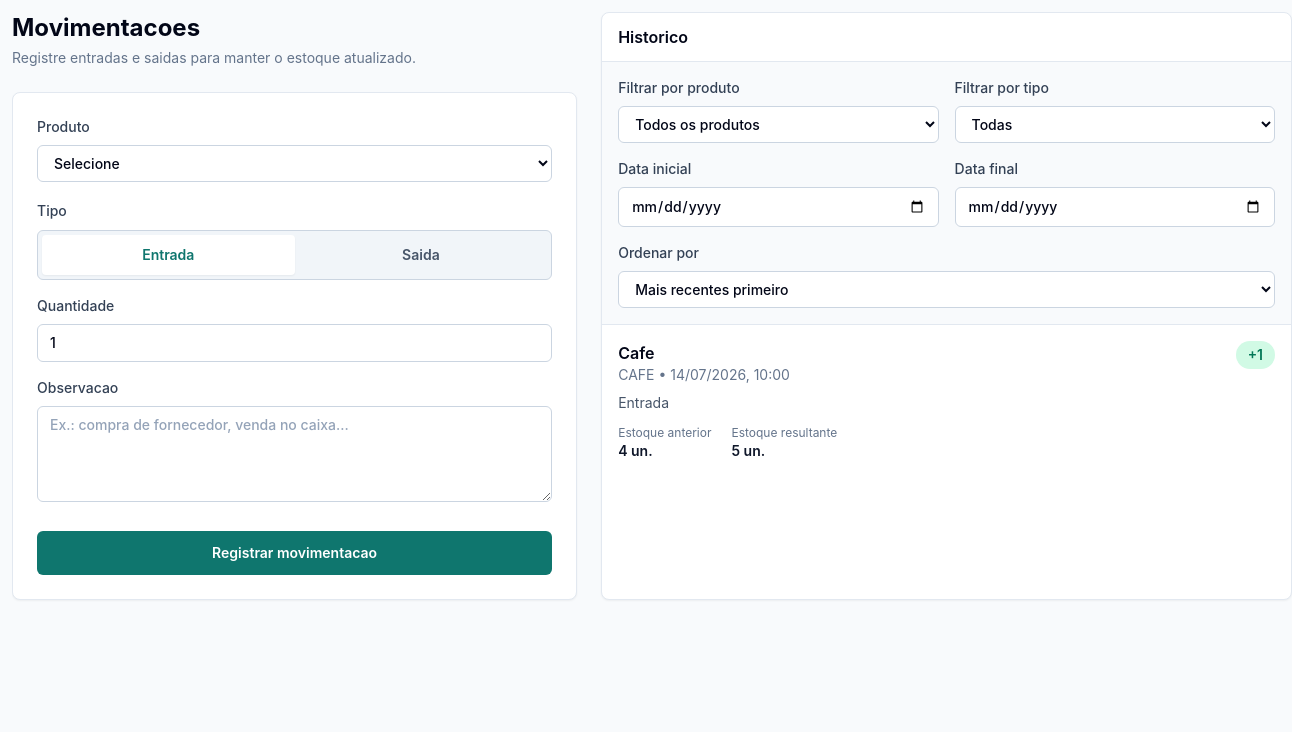
Scenario: controles de consulta das paginas › informa intervalo invalido sem apagar filtros e permite limpa-los
This screenshot has width=1292, height=732.
Type "2026-07-15" into the date field labelled "Data inicial". click: (778, 207)
box: top-left (618, 187), bottom-right (939, 227)
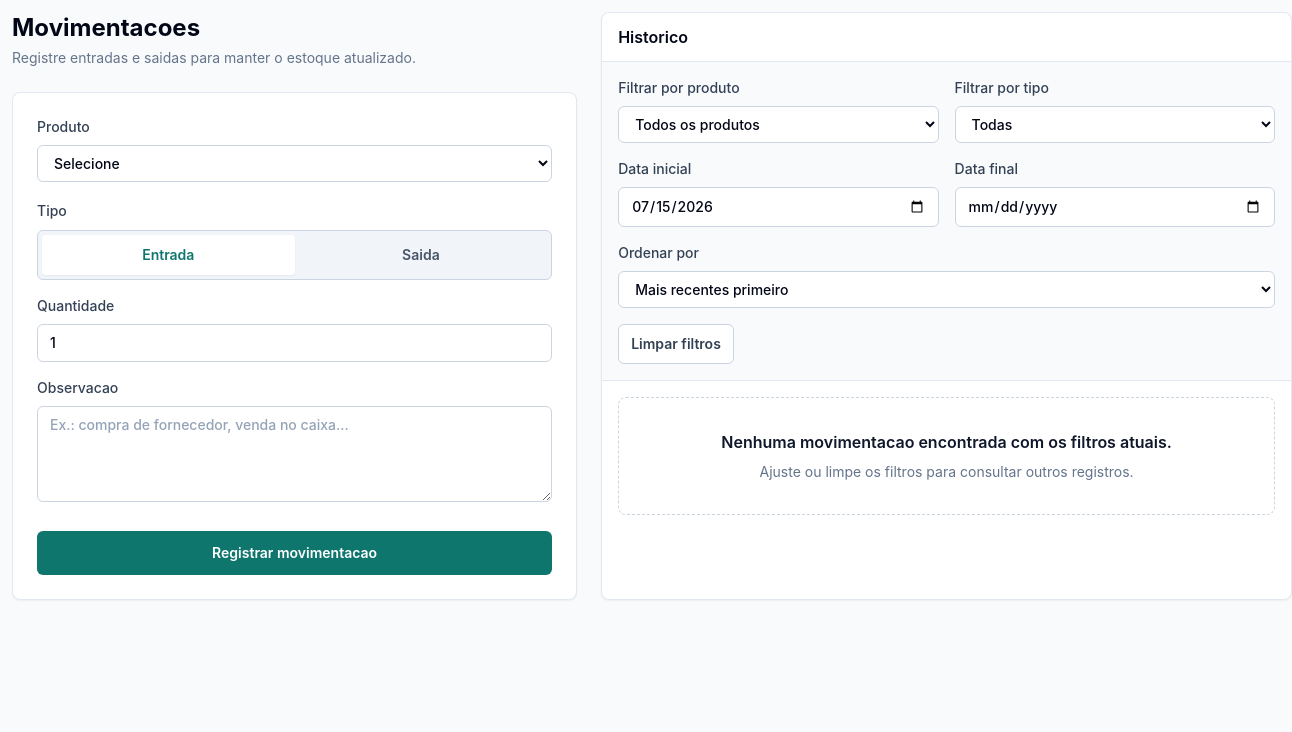
Type "2026-07-14" into the date field labelled "Data final". click: (1115, 207)
box: top-left (955, 187), bottom-right (1275, 227)
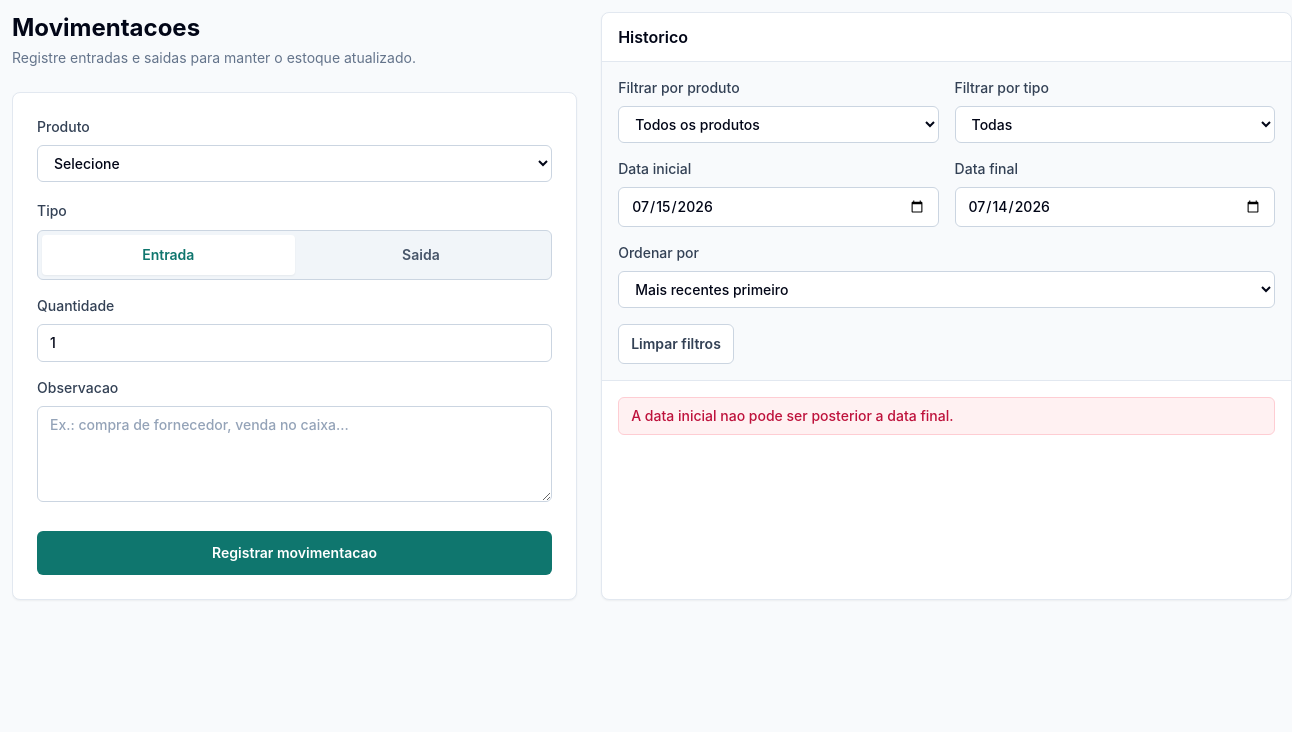
Expected: the text "A data inicial nao pode ser posterior a data final." is shown, top-left (618, 397), bottom-right (1275, 435)
Click the button "Limpar filtros". click: (676, 344)
box: top-left (618, 324), bottom-right (734, 364)
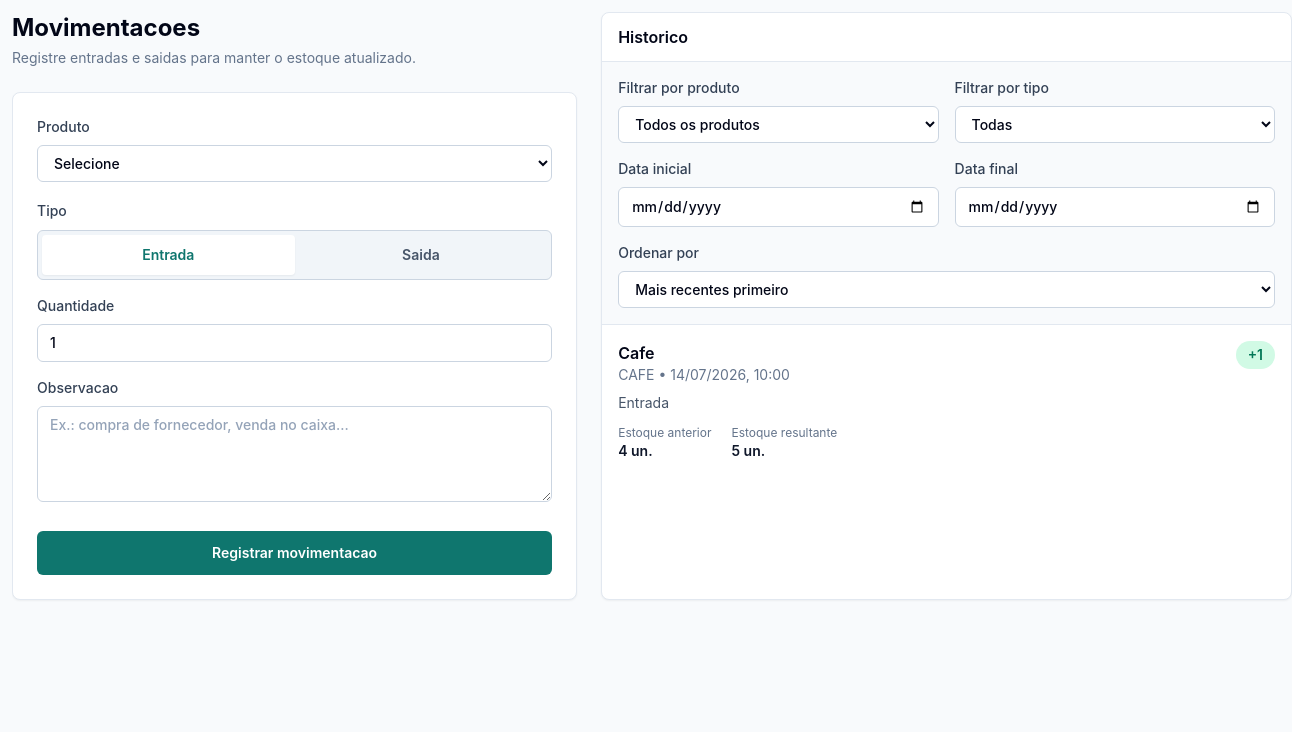
Expected: the text "Entrada" is shown, top-left (618, 394), bottom-right (669, 411)
